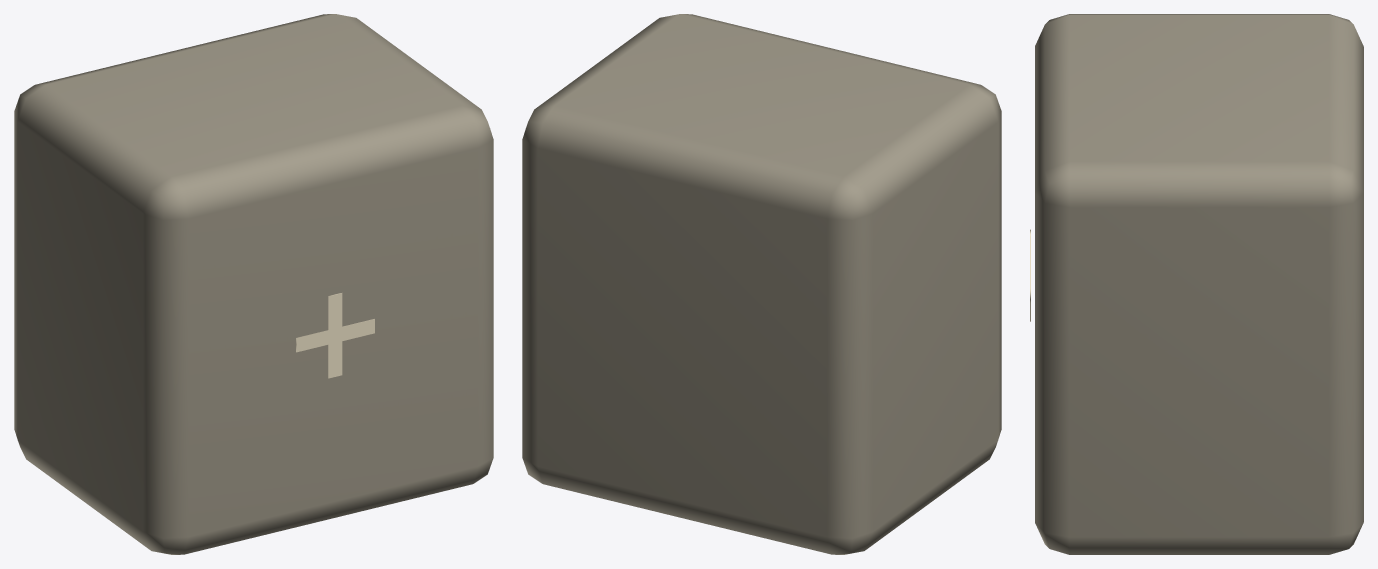
Rendered from SM_Puzzle_LogicBlock_01.fbx.
3 views of the same model, side by side, from view 1: azimuth 30°, elevation 25°; view 2: azimuth 150°, elevation 25°; view 3: azimuth 270°, elevation 25° (orthographic). The views are drawn at different scales.
Visible parts, largest first — view 1: Logic_block, Logic_symbol; view 2: Logic_block; view 3: Logic_block.
Part boxes in pixels (x1=…): Logic_block: x1=14, y1=14, x2=493, y2=554; Logic_symbol: x1=296, y1=293, x2=374, y2=378; Logic_block: x1=522, y1=14, x2=1001, y2=554; Logic_block: x1=1035, y1=14, x2=1363, y2=554.
Size of what is drawn, in the model's own units: 48 by 38.54 by 50.
